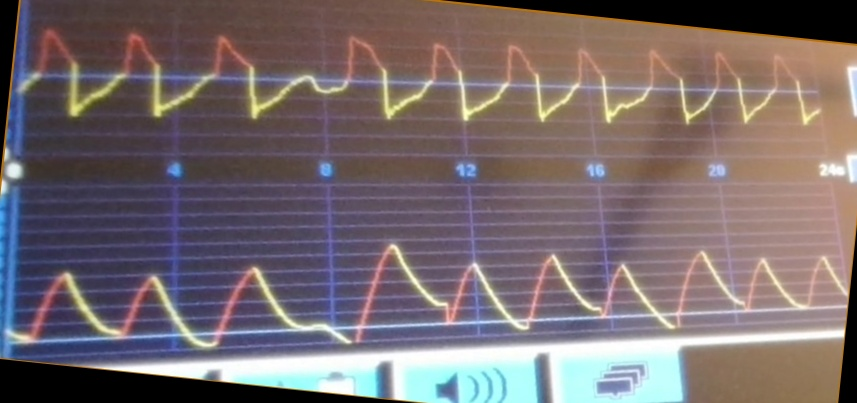Ineffective_effort Flow: (22, 24, 820, 138)
Ineffective_effort Volume: (16, 234, 842, 349)
